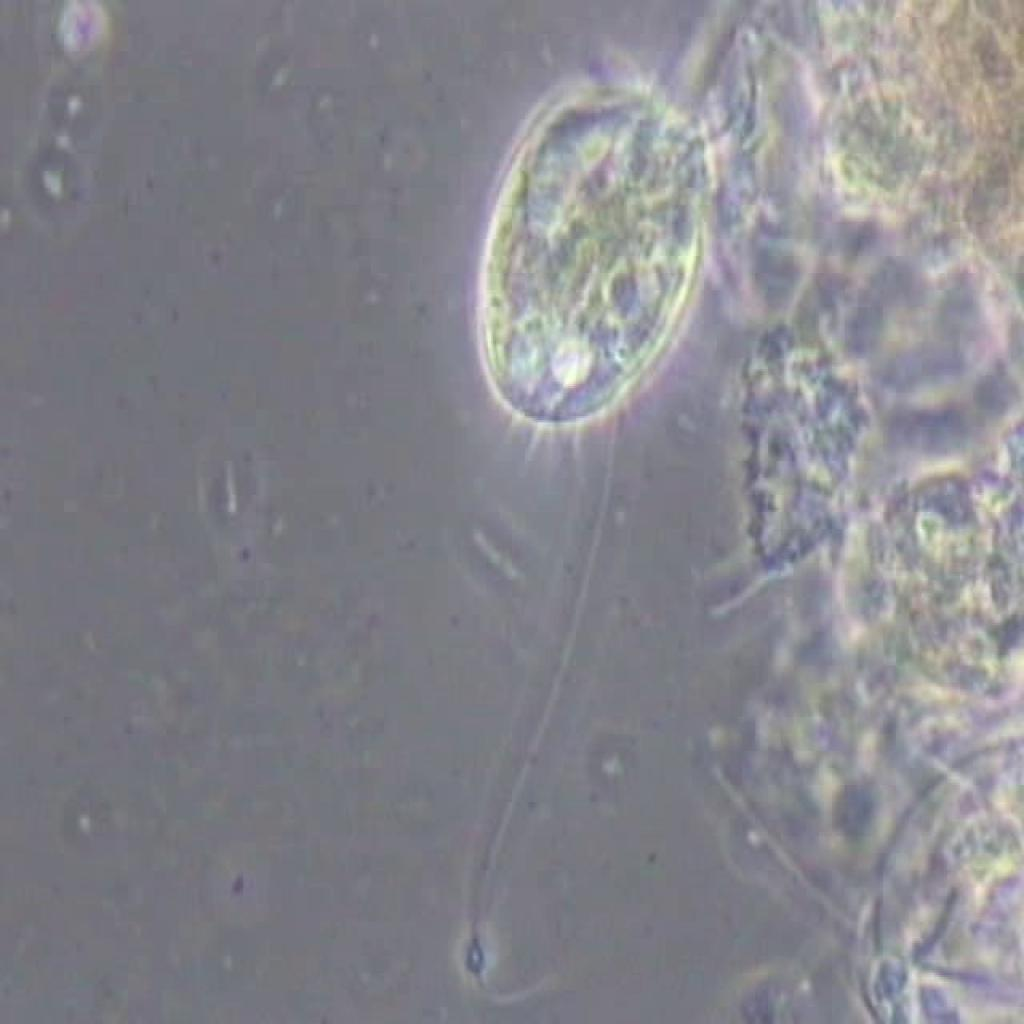Euplotes: (443, 24, 752, 462)
